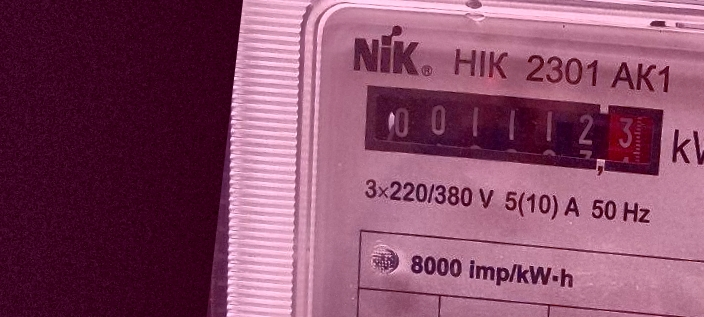0: (425, 99, 451, 139), (388, 102, 414, 139)
1: (464, 100, 486, 140), (501, 104, 520, 143), (540, 106, 558, 144)
2: (572, 110, 598, 148)
3: (613, 113, 635, 150)
screen: (352, 71, 673, 187)
